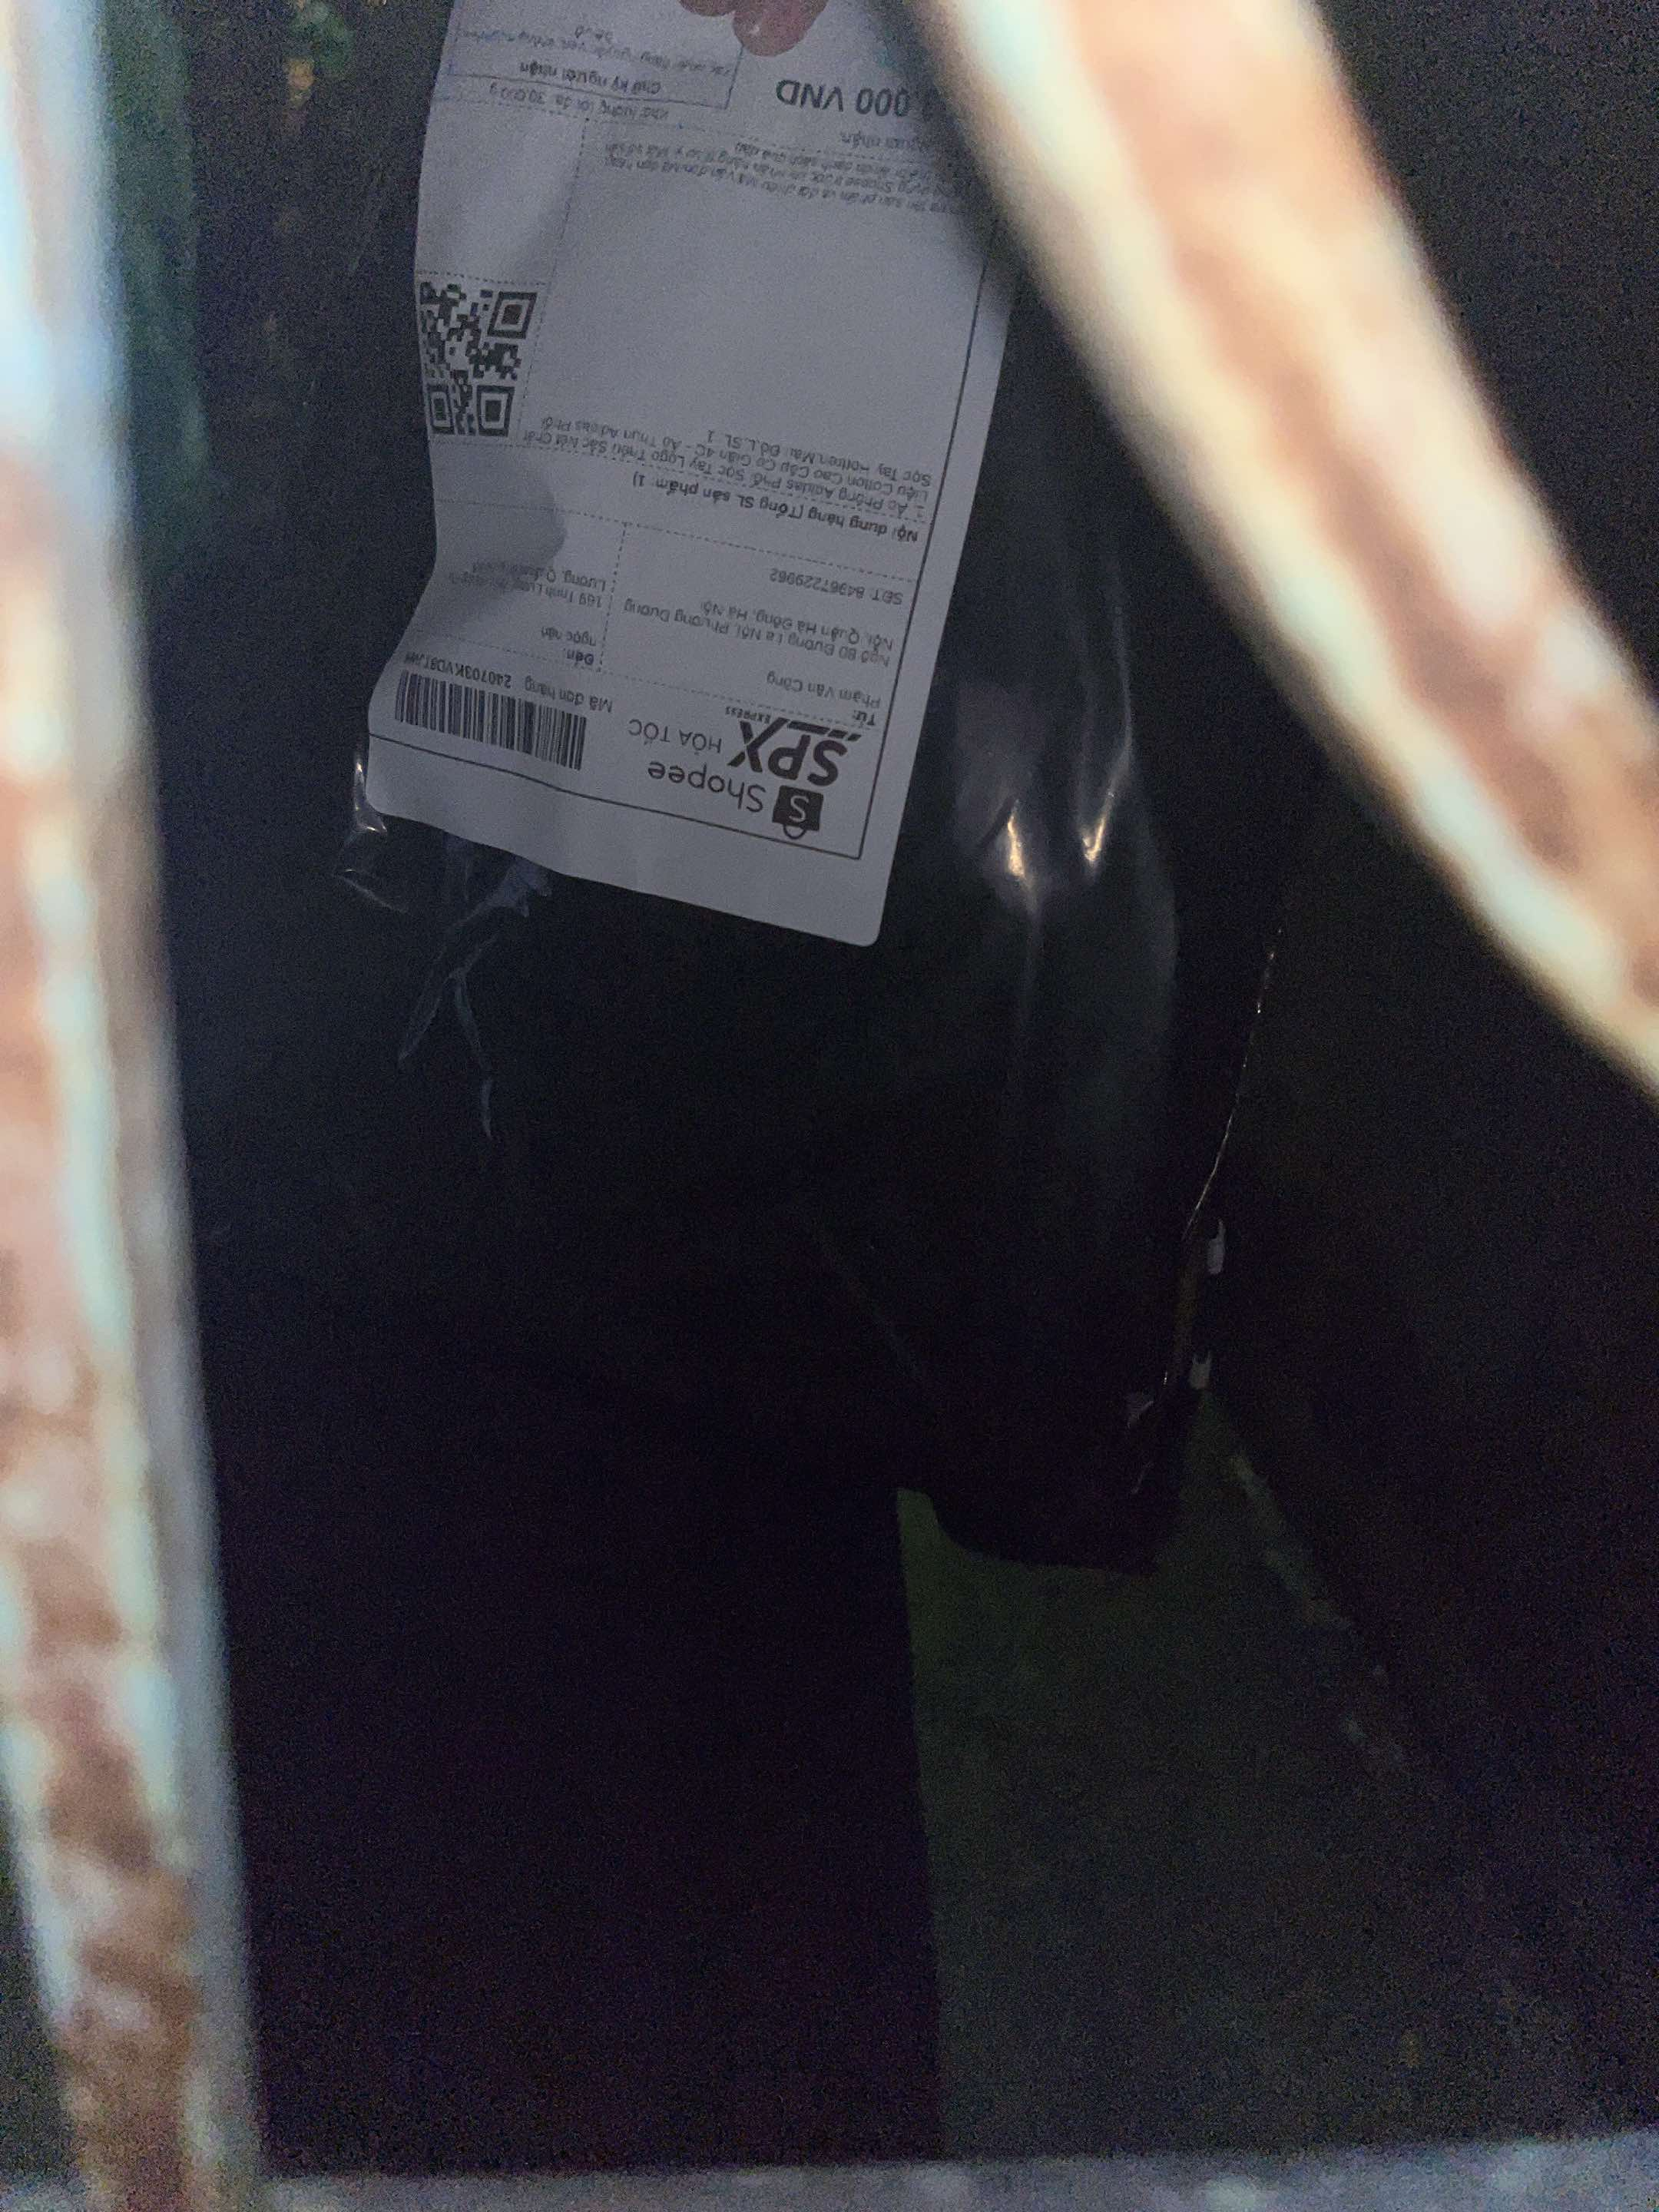pod: (362, 2, 922, 956)
